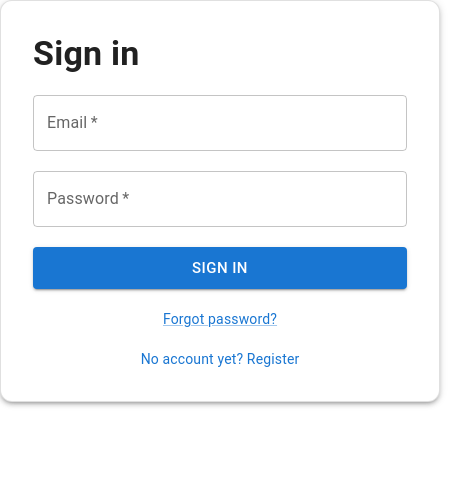
login error messages › says the credentials are wrong only for a 401
Step 1. Type "player@example.test" into the field labelled "Email *" → (220, 123), box [33,95,407,151]
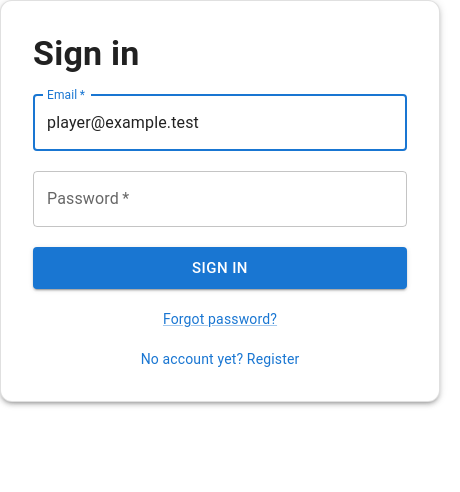
Step 2. Type "whatever-password" into the password field labelled "Password *" → (220, 199), box [33,171,407,227]
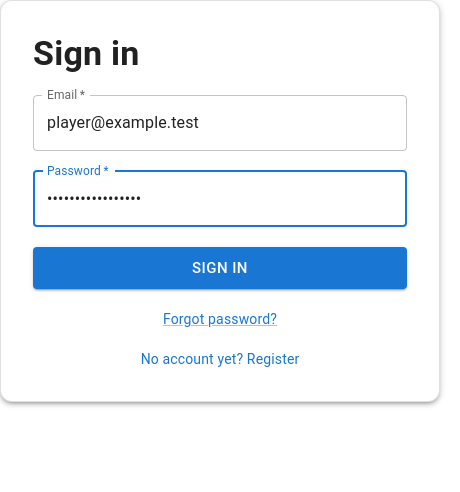
Step 3. Click the button "Sign in" → click(220, 268), box [33,247,407,289]
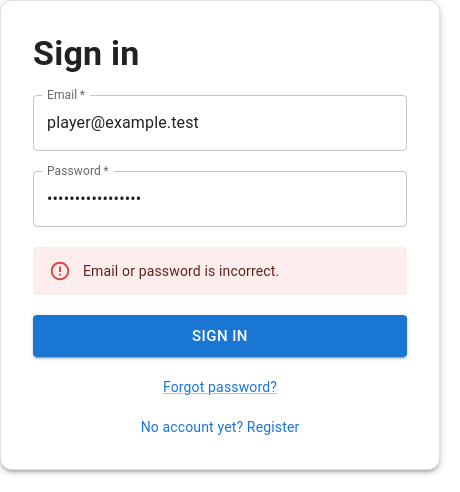
Expected: the message shows "Email or password is incorrect", [83,263,279,279]
